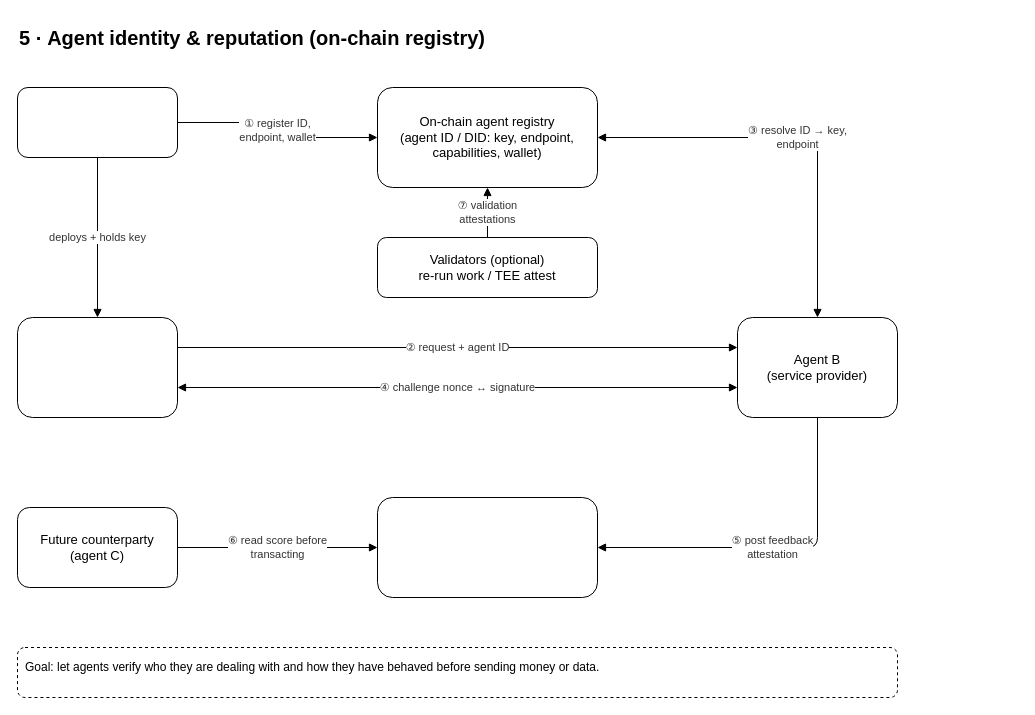
The diagram is 1035 pixels wide and 715 high, and some of its shapes have lost their labels. Here are the shapes that lost their labels. From the top down, the box of each, then its label:
(16, 86, 178, 158): Agent owner / deployer
(16, 316, 178, 418): Agent A (client)
(376, 496, 598, 598): Reputation contract (feedback attestations)
